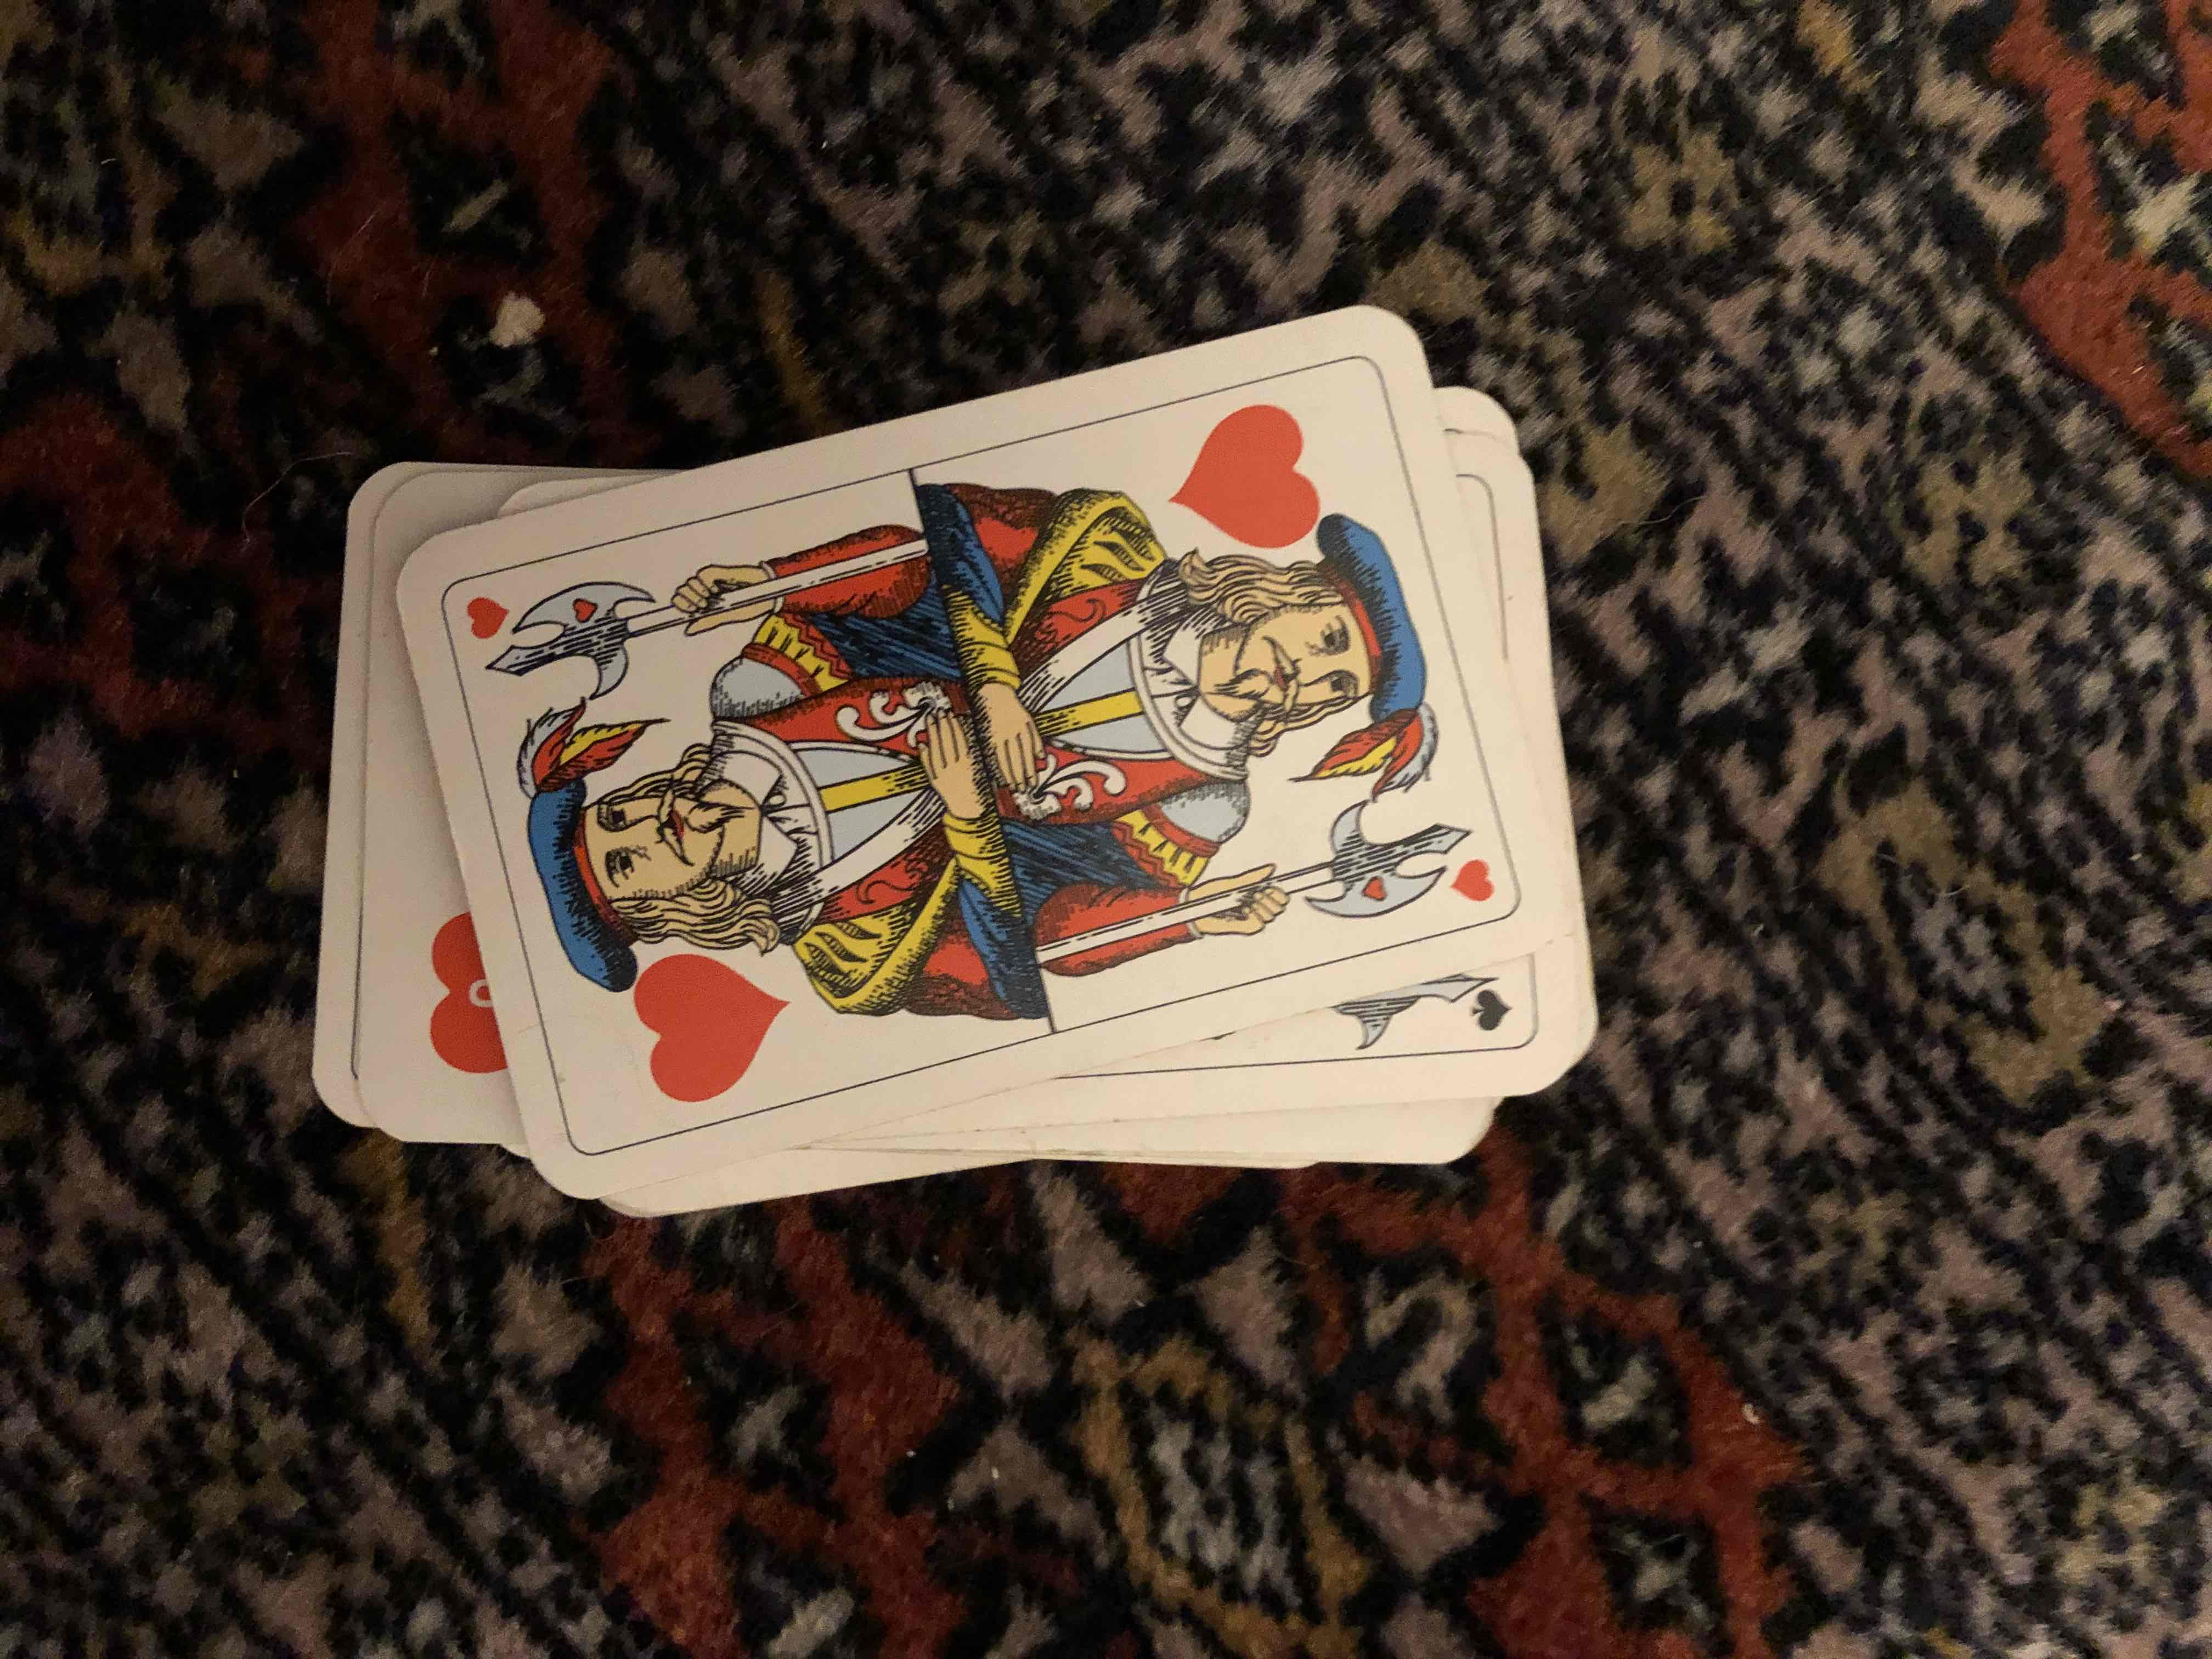heartsJack: (423, 378, 1625, 1096)
